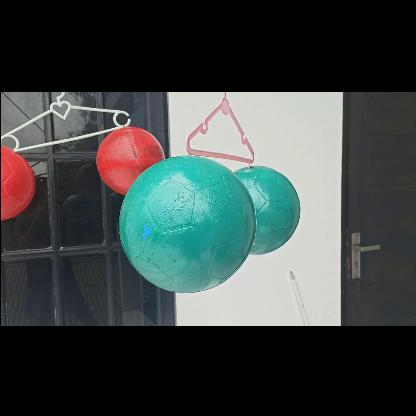green_ball: (116, 156, 254, 294)
